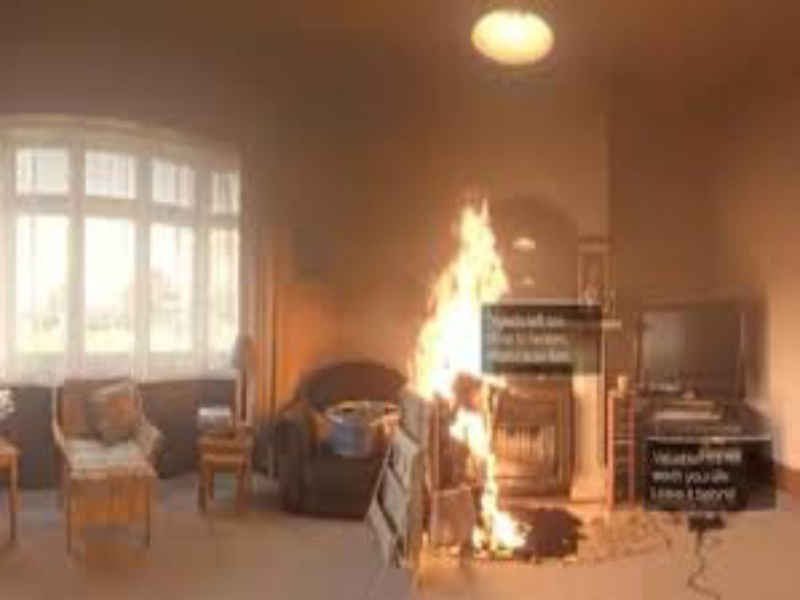fire: (397, 186, 516, 393), (460, 400, 531, 555)
